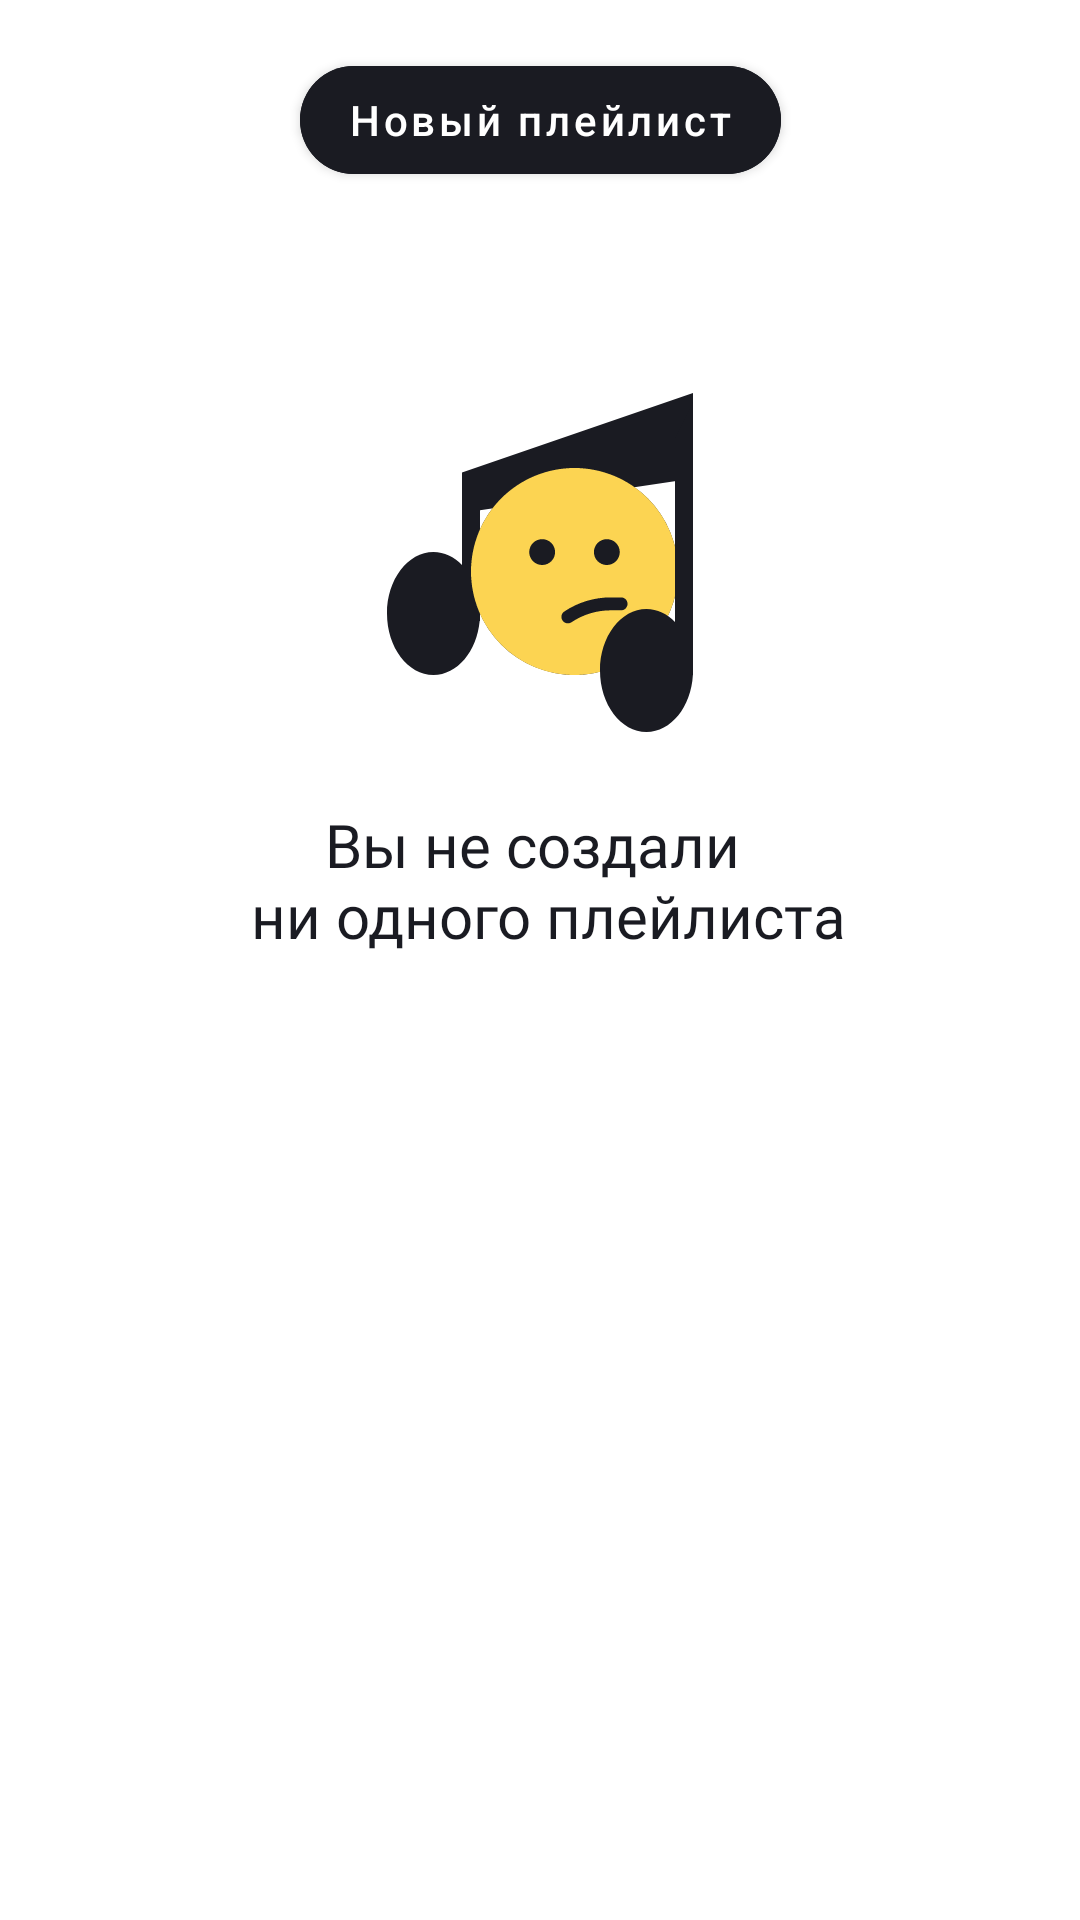

Point at icon controls on the screen. Image size 1080x1920, points as (x=x, y=y).
not found mode: (x=540, y=562)
